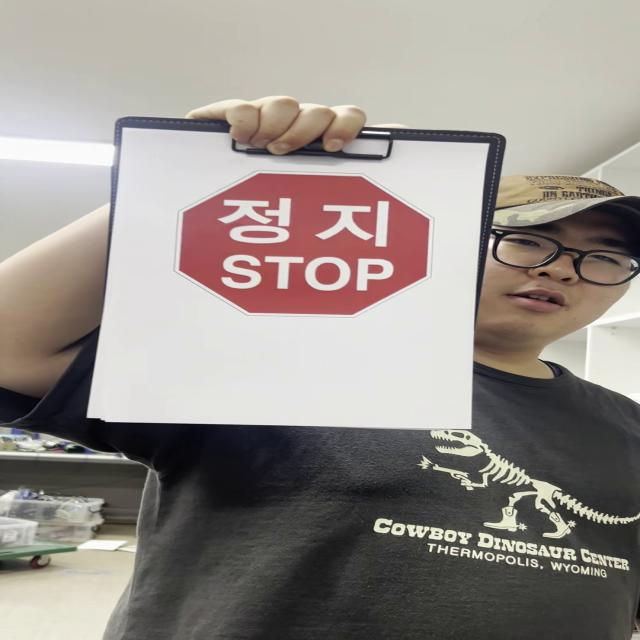stop: (171, 173, 440, 317)
